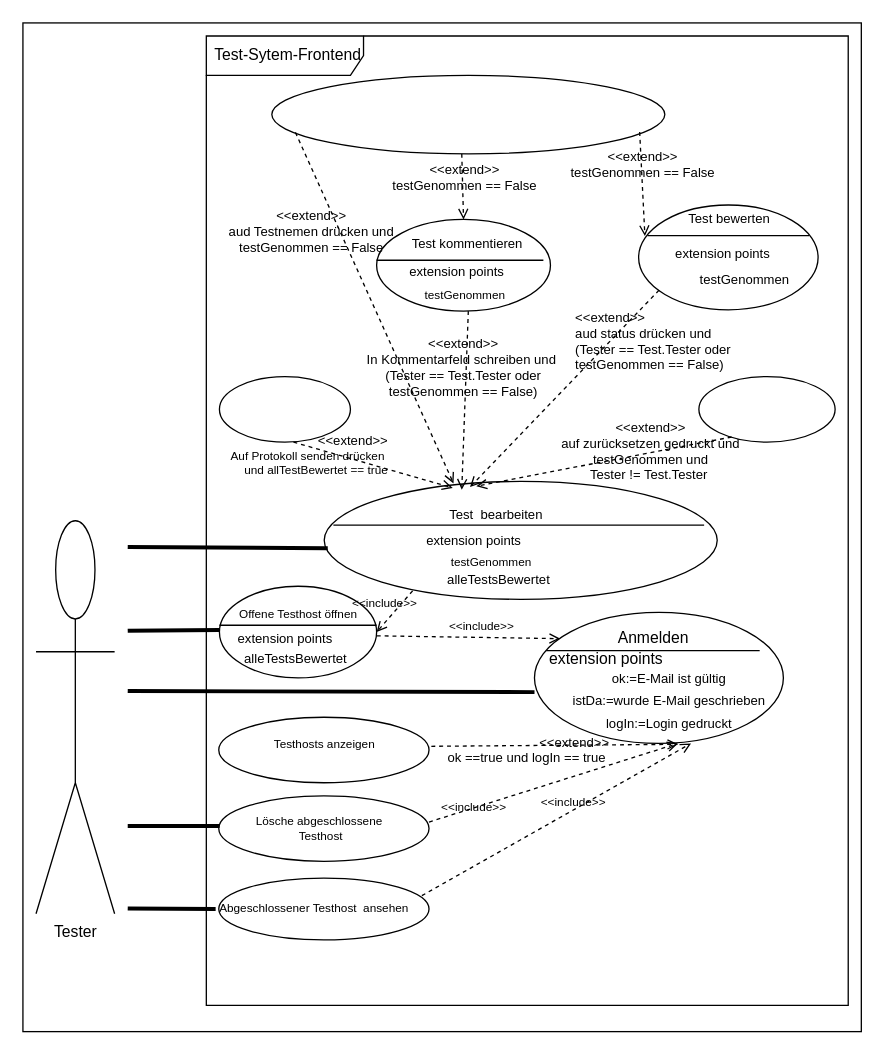
Image size: 884x1055. Some labels were removed from this diagram. The centre of each missing label's shape, as x and y in pixels:
"Sende Testprotokoll" belongs at [284,408].
"Test nehmen" belongs at [468,114].
"Test zurücksetzen" belongs at [766,408].
